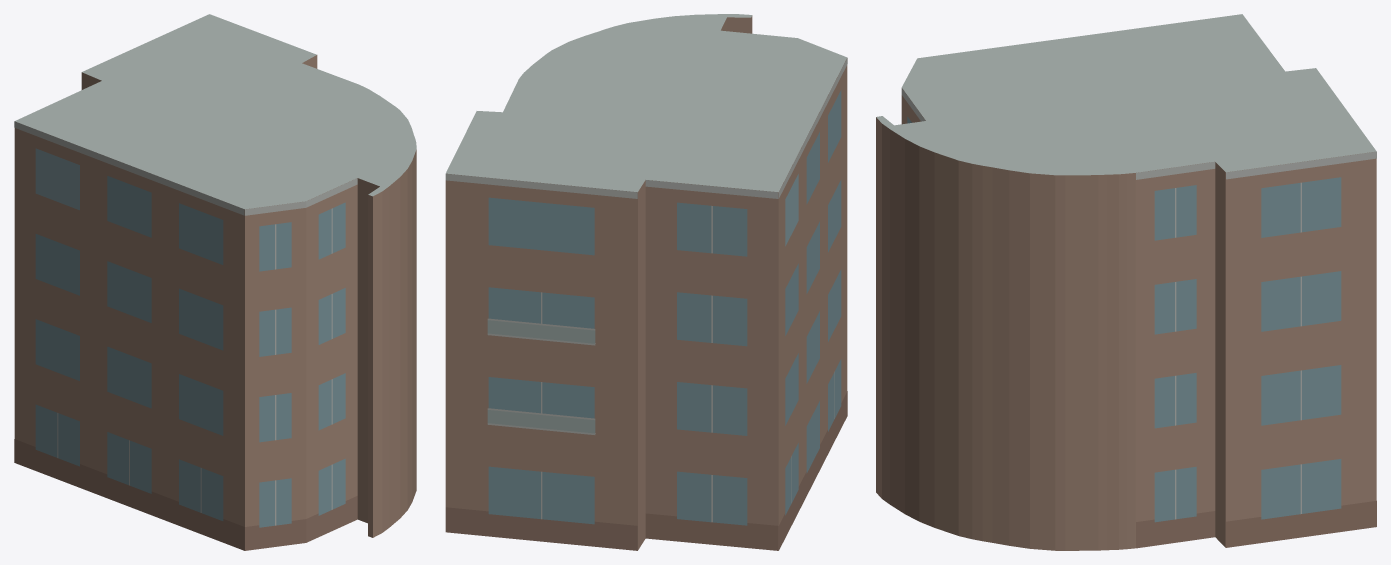
The model's file is survey-upis-32838064.glb.
3 views of the same model, side by side, from view 1: azimuth 30°, elevation 25°; view 2: azimuth 150°, elevation 25°; view 3: azimuth 270°, elevation 25° (orthographic). The views are drawn at different scales.
Visible parts, largest first — view 1: survey-upis-32838064.tmp; view 2: survey-upis-32838064.tmp; view 3: survey-upis-32838064.tmp.
Part boxes in pixels (x1=…): survey-upis-32838064.tmp: x1=14, y1=14, x2=416, y2=550; survey-upis-32838064.tmp: x1=445, y1=14, x2=847, y2=550; survey-upis-32838064.tmp: x1=876, y1=14, x2=1376, y2=550.
Size of the model in its own units: 11.8 by 12.8 by 15.47.
